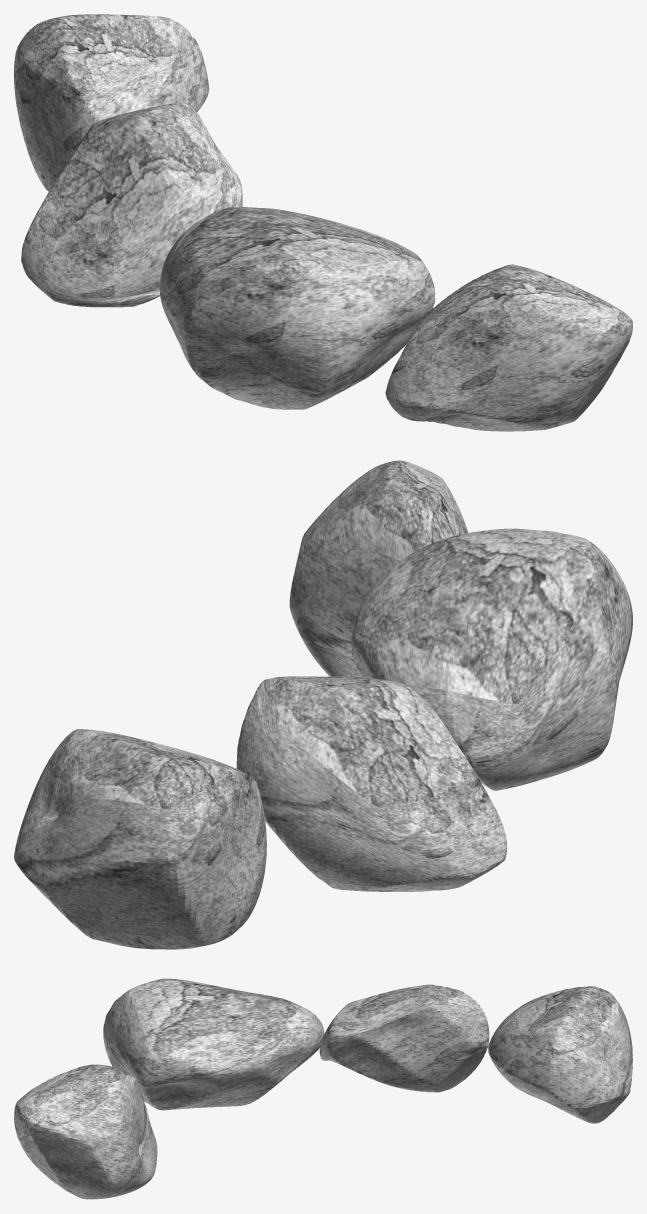
The model's file is rock1.fbx.
3 views of the same model, one above another, from view 1: azimuth 30°, elevation 25°; view 2: azimuth 150°, elevation 25°; view 3: azimuth 270°, elevation 25° (orthographic). The views are drawn at different scales.
Visible parts, largest first — view 1: Cube; view 2: Cube; view 3: Cube.
Part boxes in pixels (x1,y1,x2,y2): Cube: (14, 14, 632, 431); Cube: (14, 460, 632, 949); Cube: (14, 978, 632, 1199).
Bounding box in the file's own units: 266 × 145 × 521.
